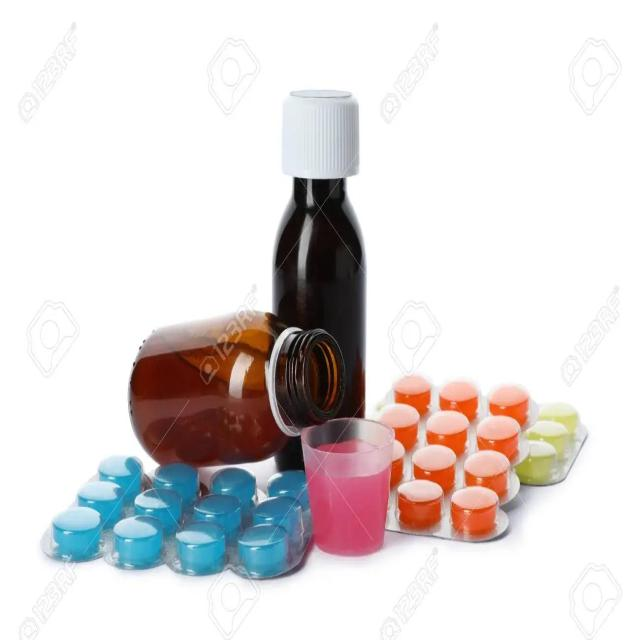B3: (36, 452, 330, 597), (270, 74, 374, 472), (123, 300, 357, 474), (374, 342, 539, 568)
